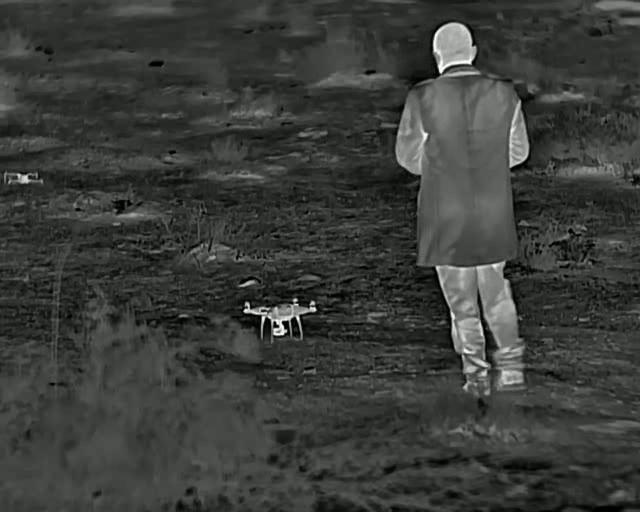DJI-Phantom: (241, 301, 322, 342)
